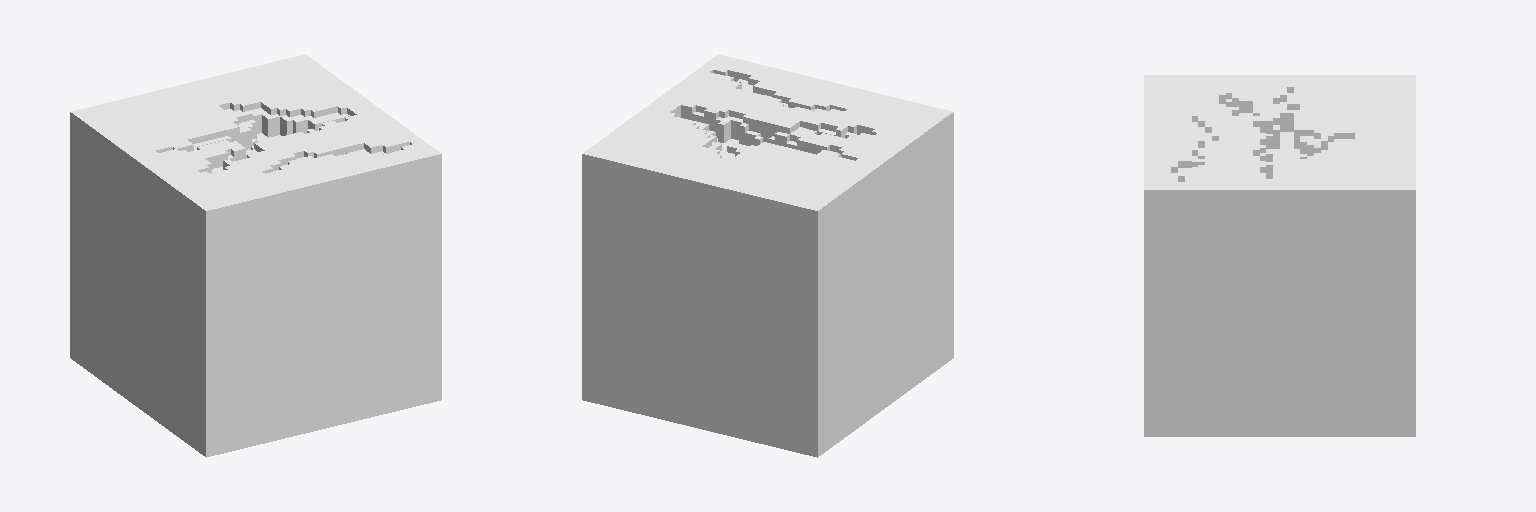
Rendered from floor2.vox.obj.
3 renders of one model, left to right at view 1: azimuth 30°, elevation 25°; view 2: azimuth 150°, elevation 25°; view 3: azimuth 270°, elevation 25°, orthographic.
Visible parts, largest first — view 1: object 1; view 2: object 1; view 3: object 1.
Part boxes in pixels (x1,y1,x2,y2): object 1: (70, 54, 441, 457); object 1: (582, 54, 953, 457); object 1: (1144, 75, 1415, 436).
Size of the model in its own units: 4 by 4 by 4.